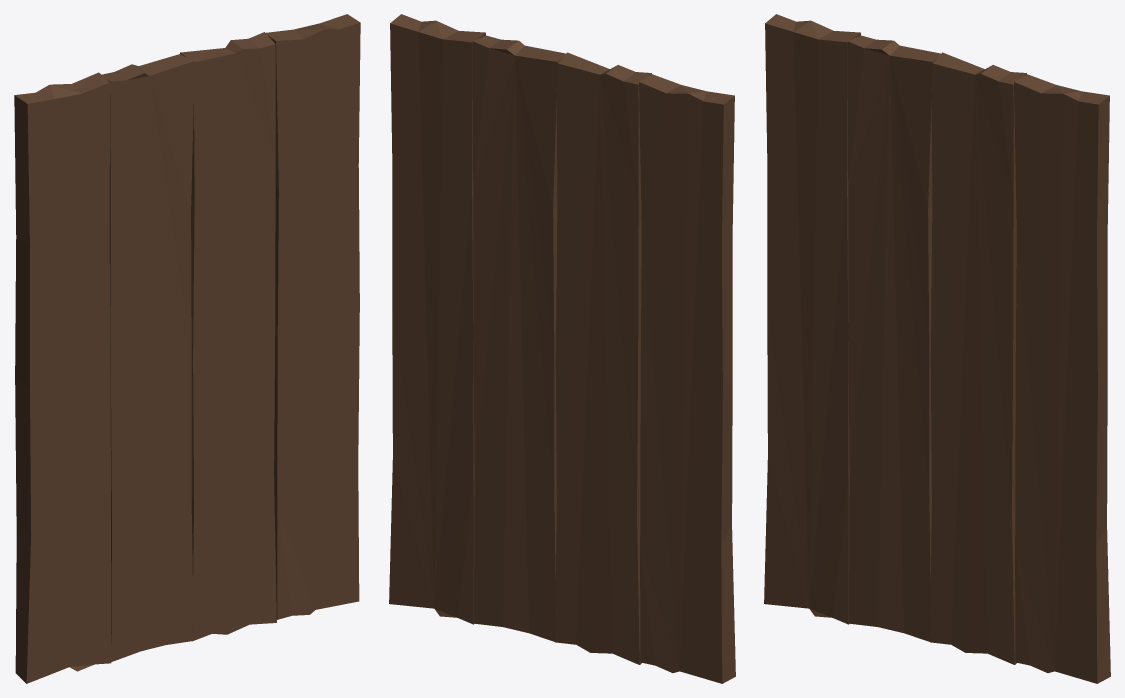
File: door.fbx
3 views of the same model, side by side, from view 1: azimuth 30°, elevation 25°; view 2: azimuth 150°, elevation 25°; view 3: azimuth 330°, elevation 25° (orthographic).
Visible parts, largest first — view 1: Cube; view 2: Cube; view 3: Cube.
Part boxes in pixels (x1,y1,x2,y2): Cube: [14, 14, 360, 683]; Cube: [389, 14, 735, 683]; Cube: [764, 14, 1110, 683].
Bounding box in the file's own units: 307 × 511 × 20.58.
